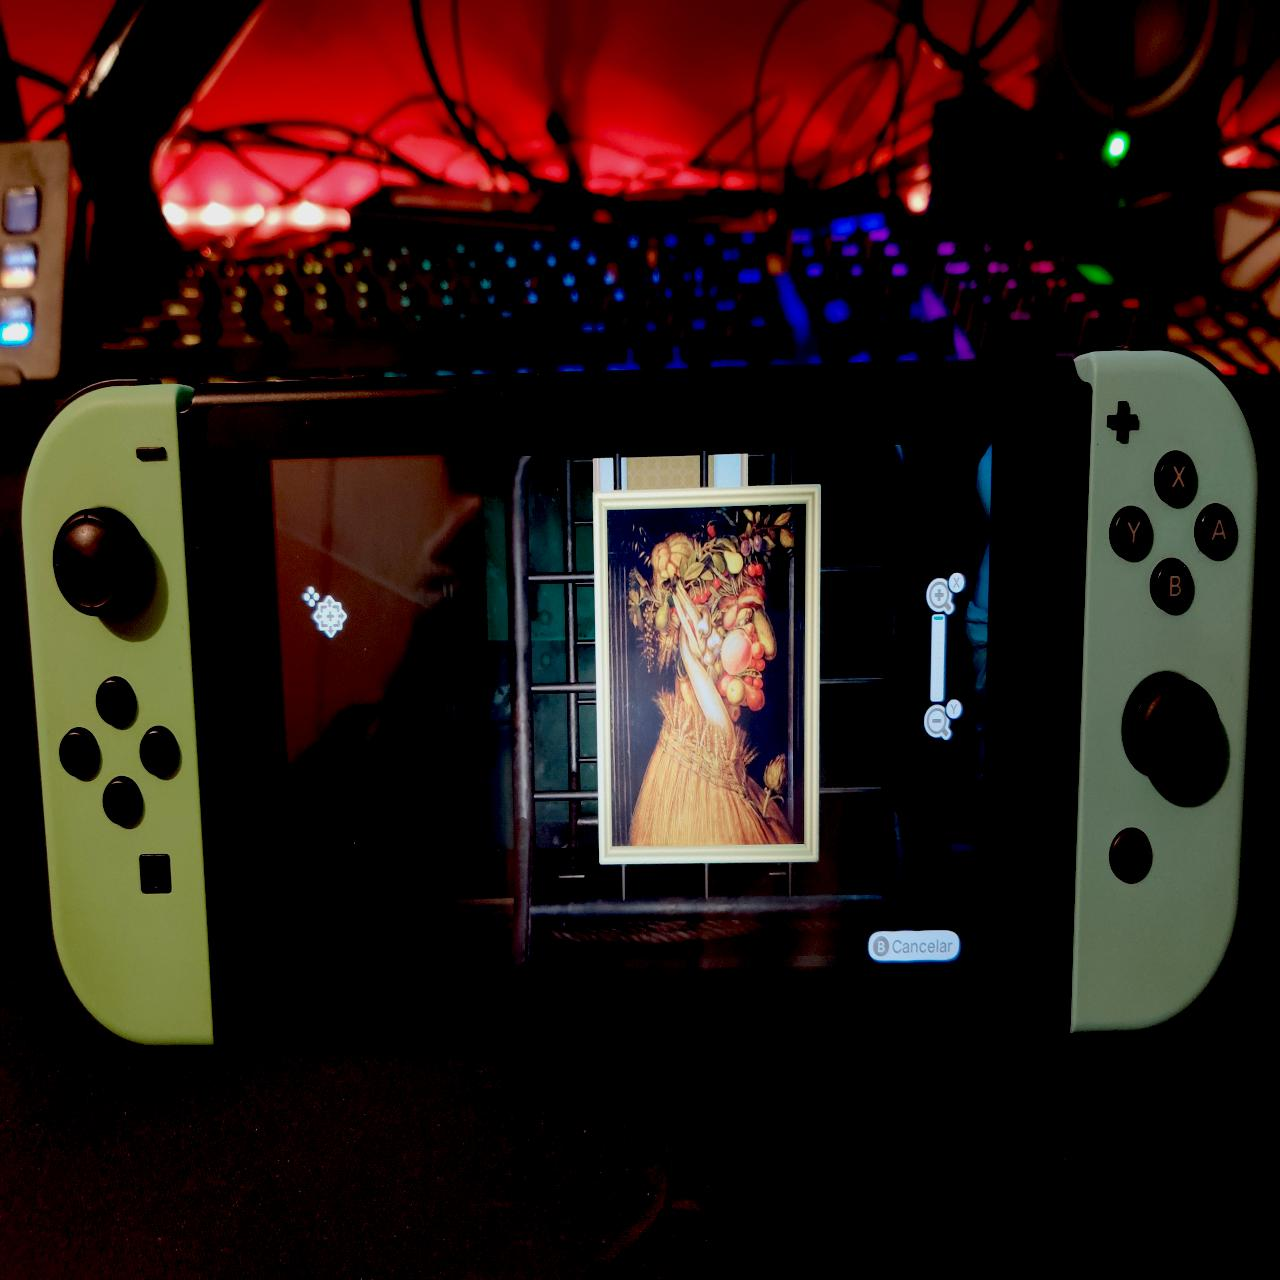Summer: (606, 503, 809, 853)
